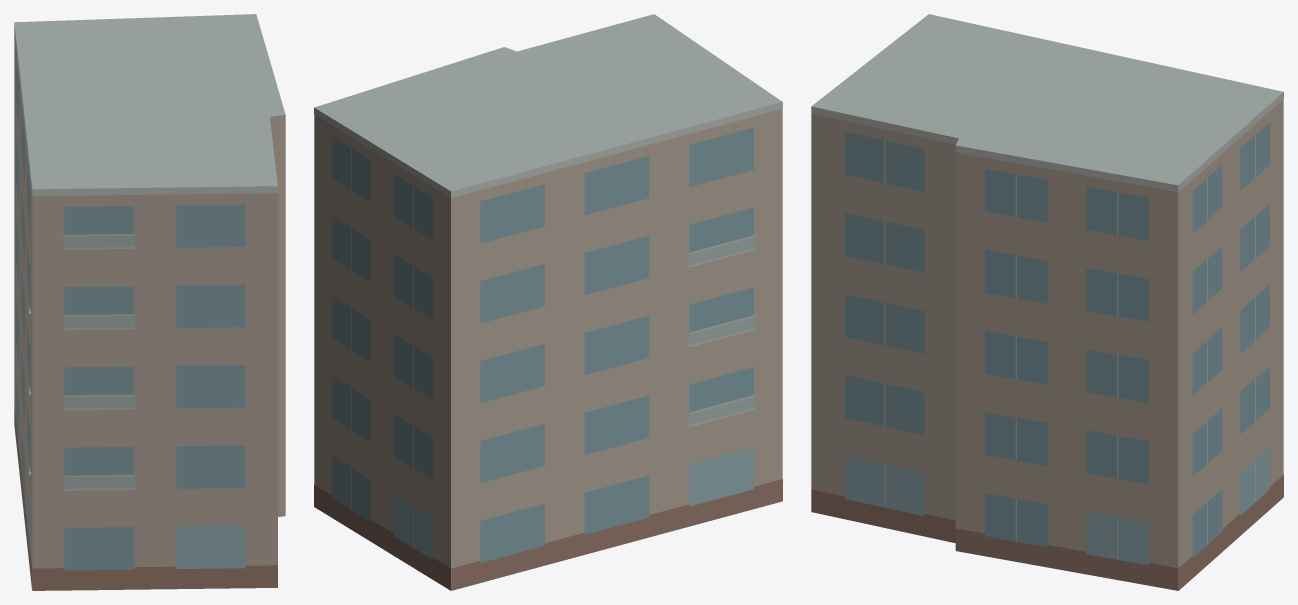
Rendered from survey-upis-32734754.glb.
3 renders of one model, left to right at view 1: azimuth 30°, elevation 25°; view 2: azimuth 150°, elevation 25°; view 3: azimuth 270°, elevation 25°, orthographic.
Parts seen in each view (by area): view 1: survey-upis-32734754.tmp; view 2: survey-upis-32734754.tmp; view 3: survey-upis-32734754.tmp.
Boxes of the visible parts, x1=… form: survey-upis-32734754.tmp: x1=14, y1=14, x2=285, y2=590; survey-upis-32734754.tmp: x1=314, y1=14, x2=782, y2=590; survey-upis-32734754.tmp: x1=811, y1=14, x2=1283, y2=590.
Bounding box in the file's own units: 12.88 × 14.2 × 15.
